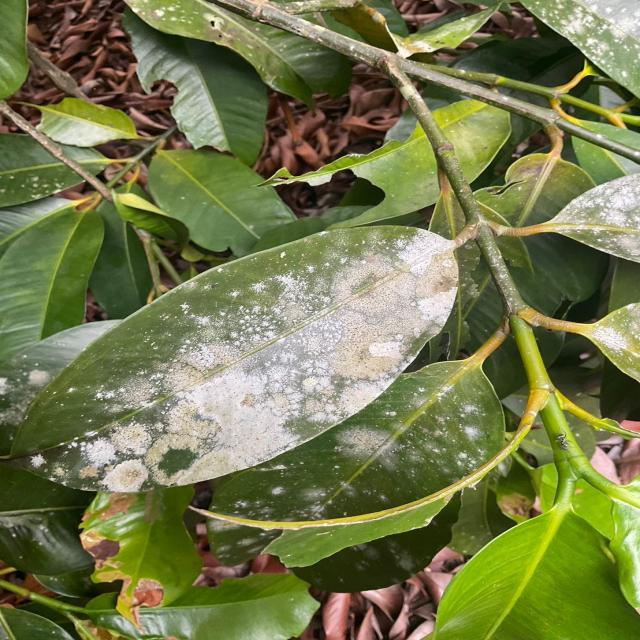Leaf Spot: (41, 280, 532, 449), (526, 1, 640, 87), (562, 170, 640, 261)
